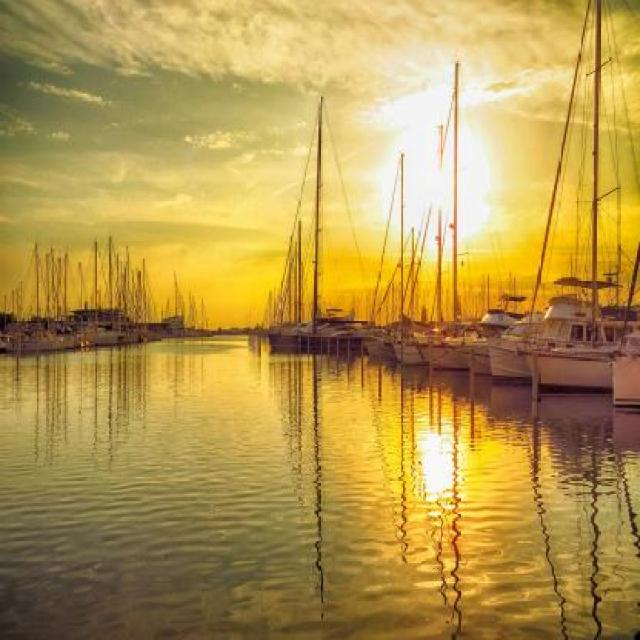ship: (516, 0, 638, 391), (416, 60, 506, 368), (266, 95, 369, 350), (450, 292, 528, 374), (3, 243, 57, 352), (26, 254, 74, 349), (75, 241, 118, 344), (487, 309, 542, 380)
